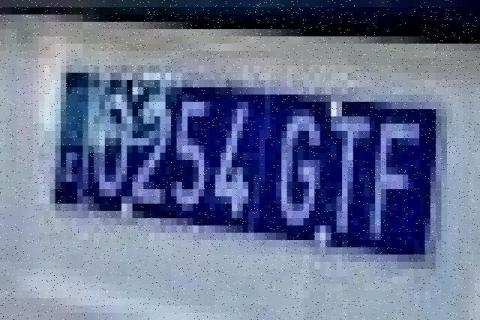LicensePlate: (51, 63, 443, 274)
